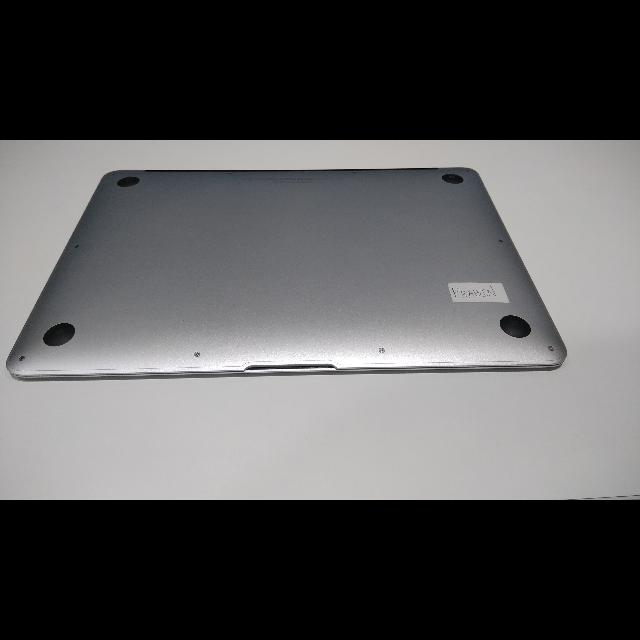Laptop: (7, 164, 573, 390)
